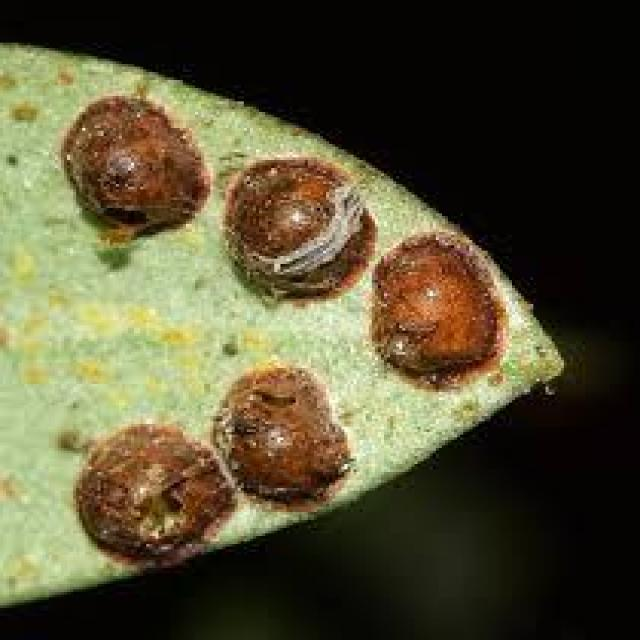Black Scale: (73, 424, 235, 571), (64, 85, 210, 245), (226, 157, 375, 300), (372, 229, 506, 387), (210, 360, 350, 509)
